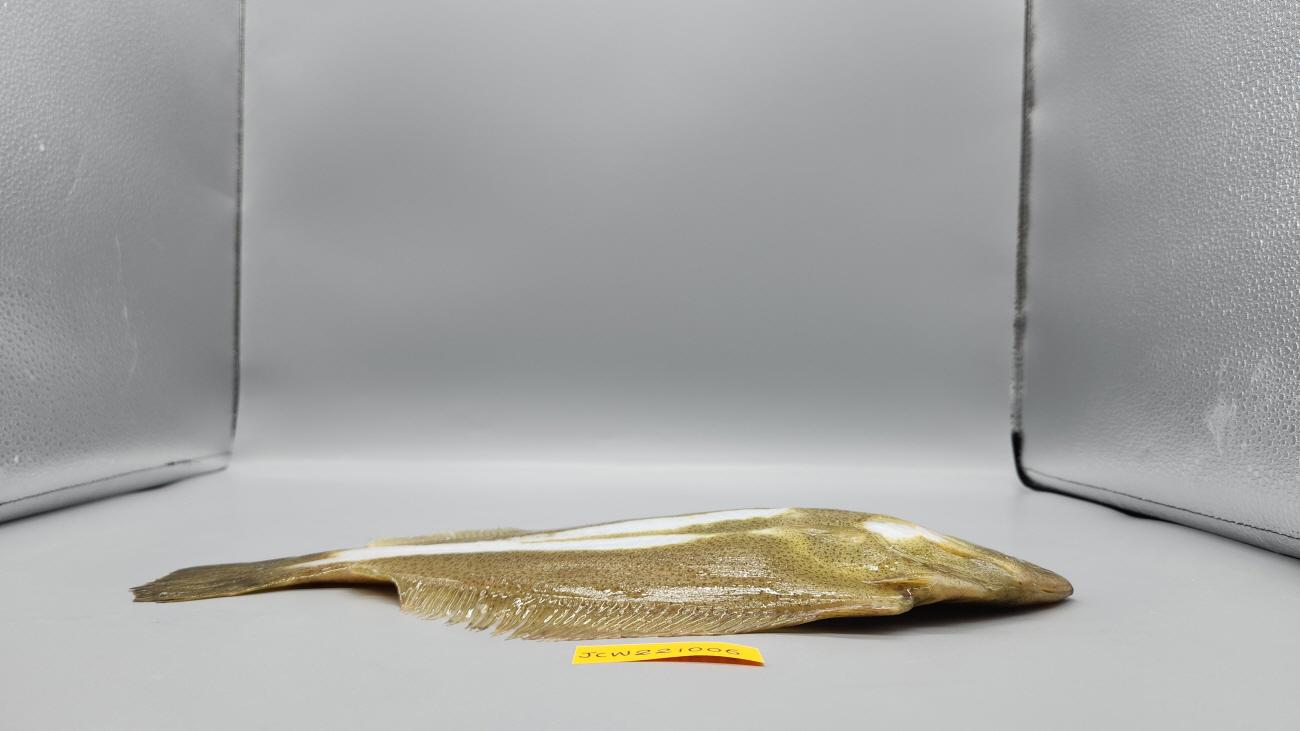POOUN: (129, 506, 1074, 643)
